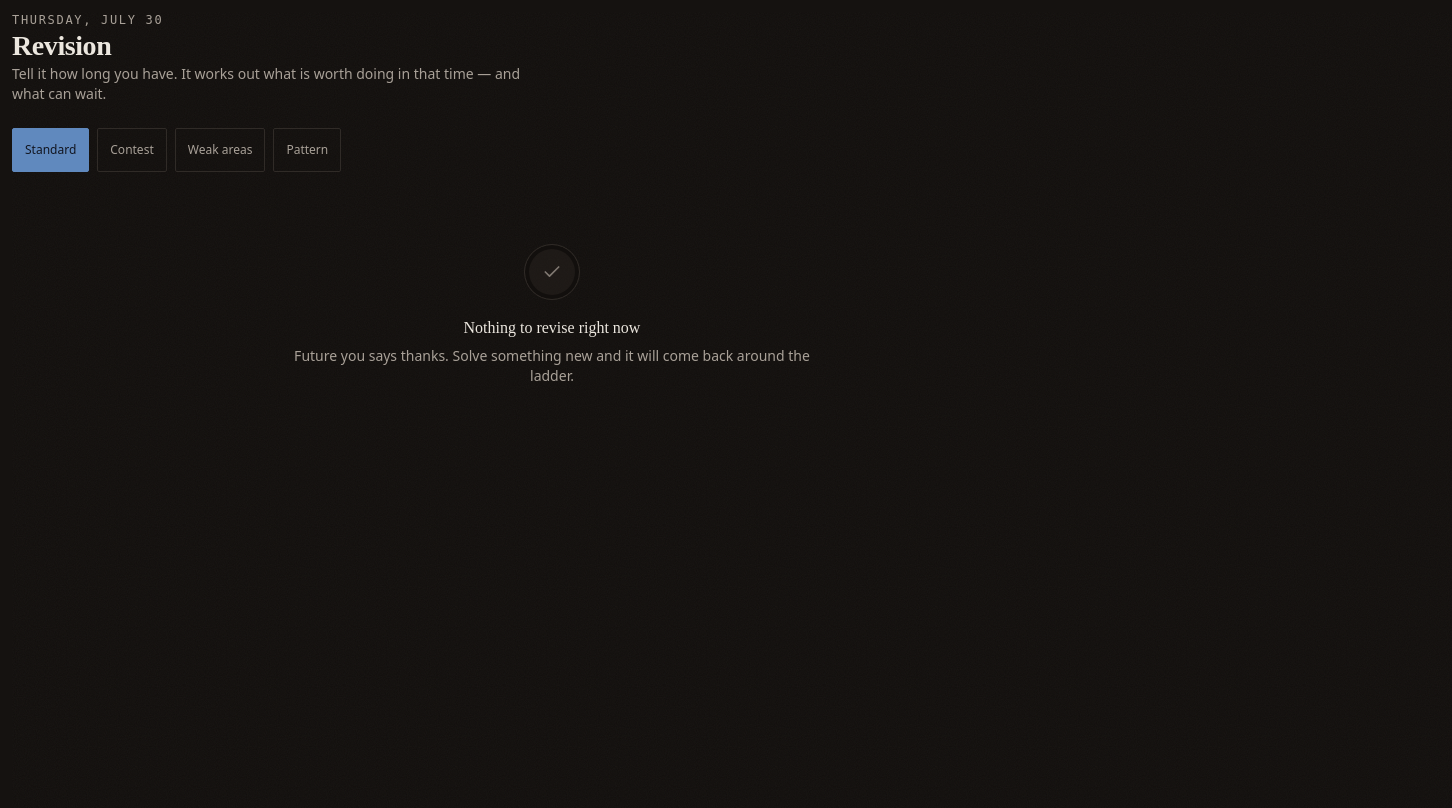
Scenario: Contest Revision — the pool, and what it claims › with nothing on the contest ladder, "Due now" says so instead of manufacturing a queue
Click the radio button labelled "Contest" at [132, 150], box [97,128,167,172]
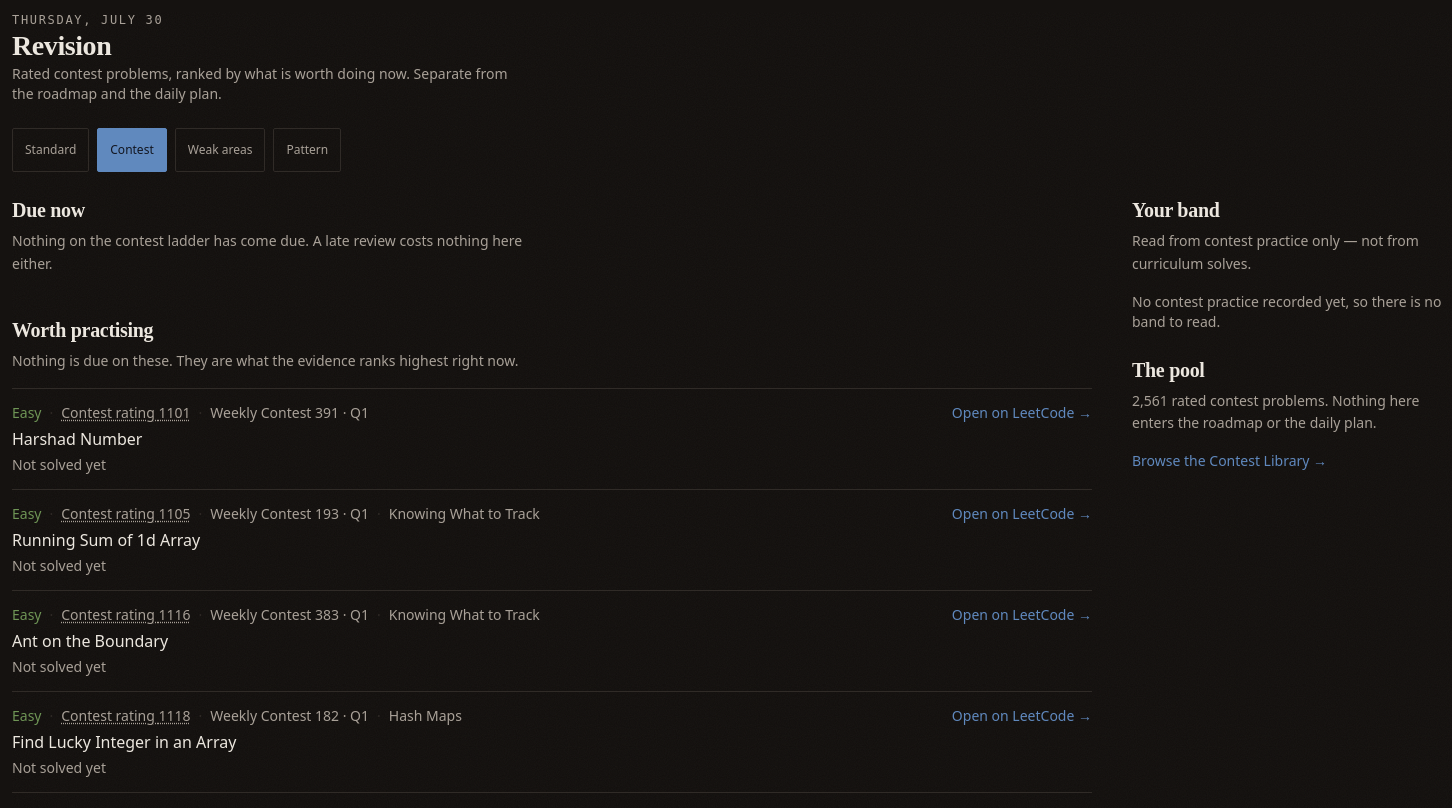
Result: the text "Nothing on the contest ladder has come due" is shown at [12,231,522,273]
Result: the heading "Worth practising" is shown at [12,316,153,344]
